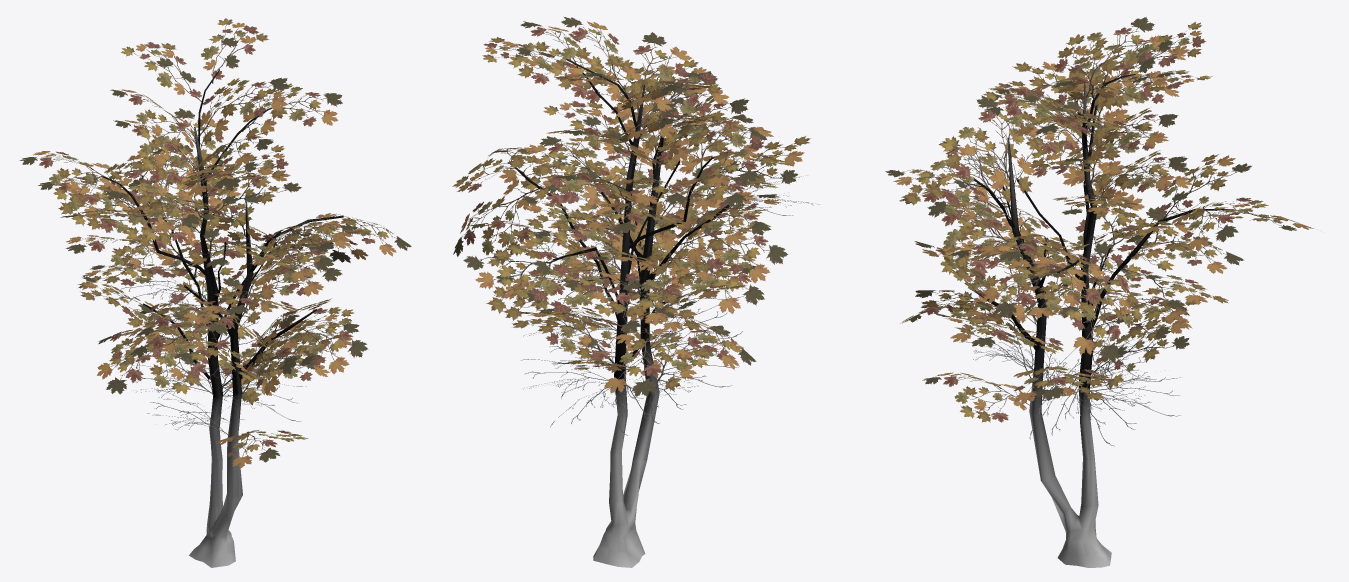
The model's file is PW_Tree_Maple_Small_01.fbx.
3 views of the same model, side by side, from view 1: azimuth 30°, elevation 25°; view 2: azimuth 150°, elevation 25°; view 3: azimuth 270°, elevation 25° (orthographic). The views are drawn at different scales.
Visible parts, largest first — view 1: PW_Tree_Maple_Small_01_LOD0; view 2: PW_Tree_Maple_Small_01_LOD0; view 3: PW_Tree_Maple_Small_01_LOD0.
Part boxes in pixels (x1=…): PW_Tree_Maple_Small_01_LOD0: x1=19, y1=18, x2=411, y2=567; PW_Tree_Maple_Small_01_LOD0: x1=452, y1=16, x2=819, y2=567; PW_Tree_Maple_Small_01_LOD0: x1=885, y1=17, x2=1314, y2=567.
Size of what is drawn, in the model's own units: 262 by 363 by 298.
